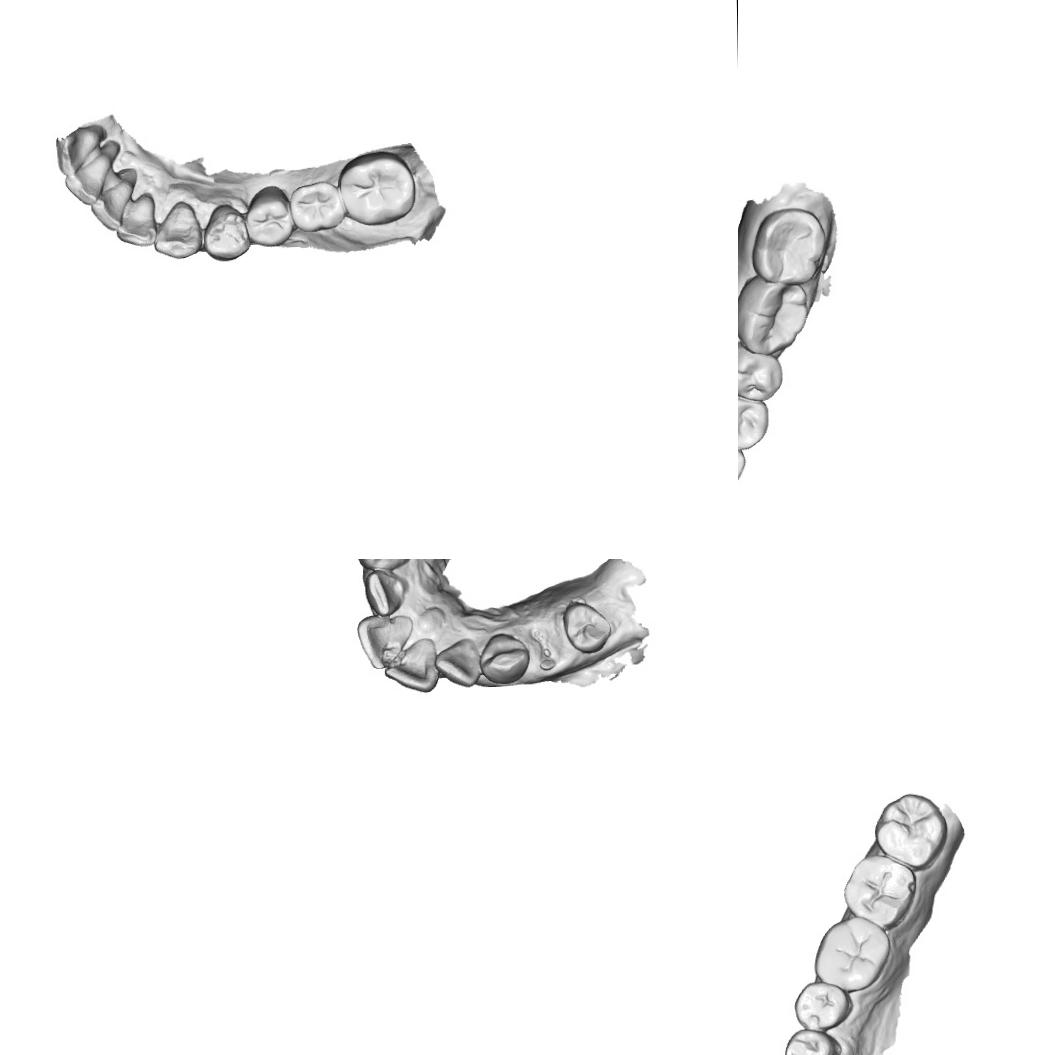canine: (153, 198, 202, 261), (478, 631, 531, 685), (355, 559, 412, 571)
incisor: (354, 614, 414, 670), (382, 637, 440, 694), (62, 150, 114, 206), (433, 638, 482, 690), (112, 196, 160, 249), (90, 177, 134, 231), (362, 568, 410, 616)
molar: (810, 914, 892, 993), (872, 791, 948, 873), (738, 272, 810, 356), (841, 854, 918, 932), (750, 207, 826, 286), (341, 152, 419, 224), (290, 178, 346, 232)
premolar: (244, 184, 295, 248), (200, 202, 253, 262), (792, 982, 853, 1032), (738, 339, 783, 402), (562, 600, 612, 654), (738, 386, 769, 450), (781, 1028, 838, 1055)
